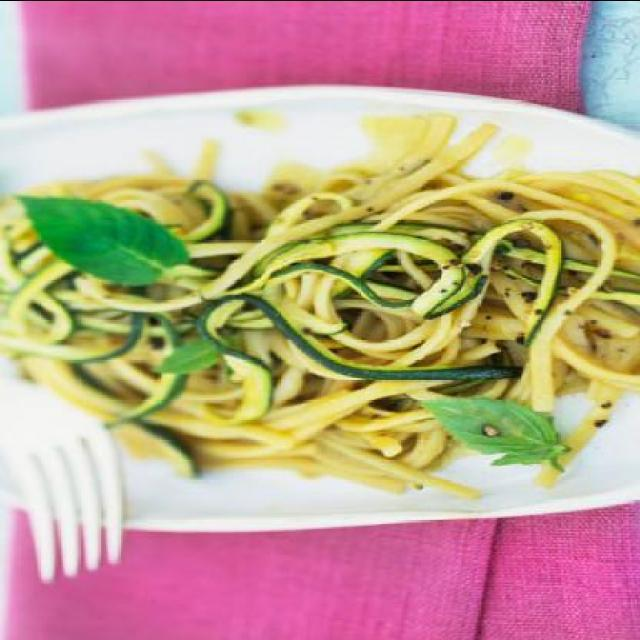Oil pasta: (29, 127, 631, 441)
